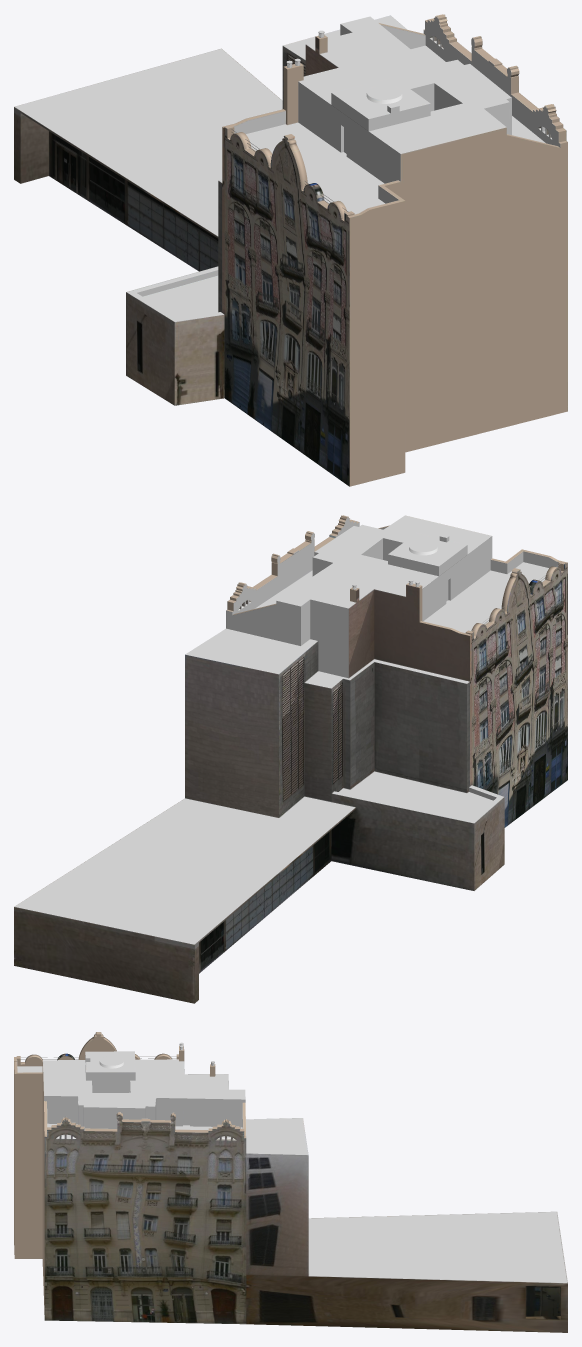
File: PIIE_AR_MO017_ALMOINA.fbx
3 views of the same model, one above another, from view 1: azimuth 30°, elevation 25°; view 2: azimuth 150°, elevation 25°; view 3: azimuth 270°, elevation 25° (orthographic). The views are drawn at different scales.
Visible parts, largest first — view 1: PIIE_AR_MO017_ALMOINA; view 2: PIIE_AR_MO017_ALMOINA; view 3: PIIE_AR_MO017_ALMOINA.
Part boxes in pixels (<box>): PIIE_AR_MO017_ALMOINA: <box>14,14,567,486</box>; PIIE_AR_MO017_ALMOINA: <box>14,515,567,1003</box>; PIIE_AR_MO017_ALMOINA: <box>14,1032,567,1332</box>.
Bounding box in the file's own units: 26.77 × 24.6 × 56.73.
1 material, 1 textured.
